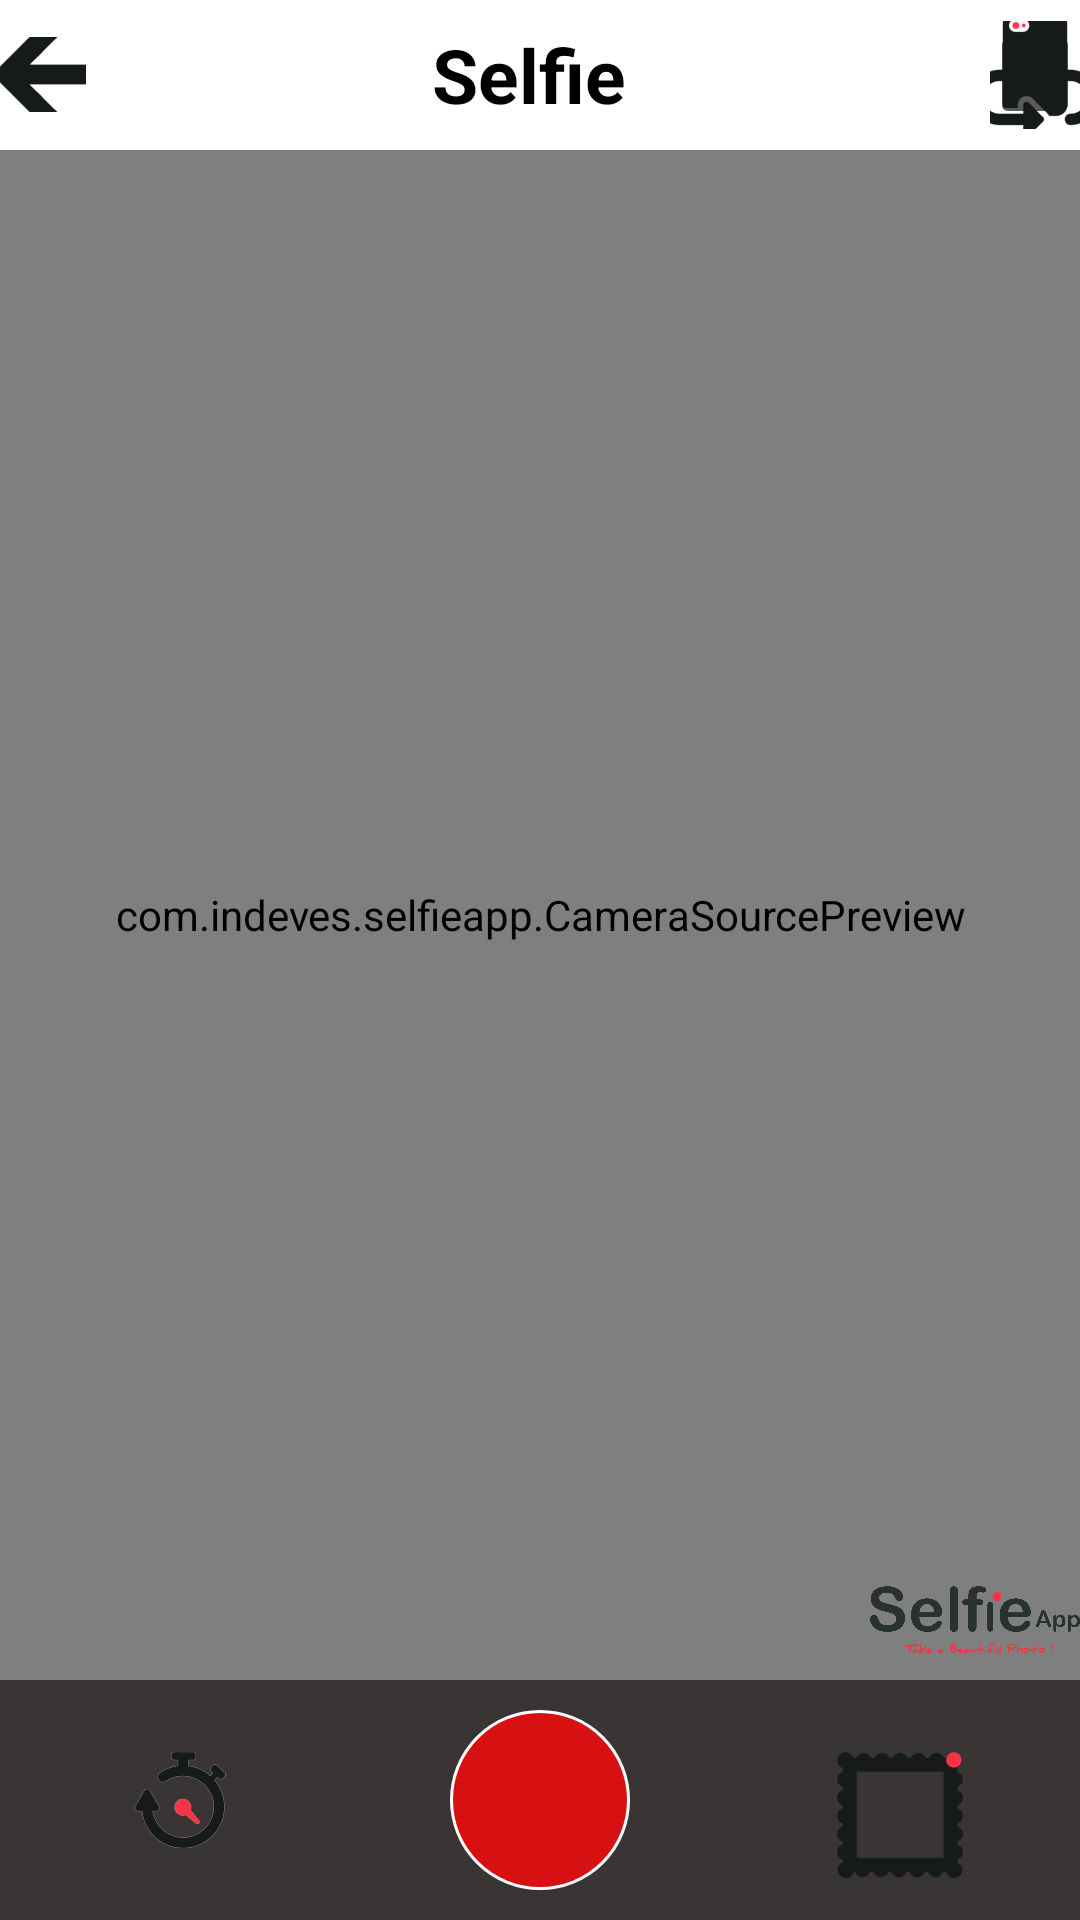

Where icons sit on this 1080x1920 app screen, as (x1, y1, x2, y2):
add timer: (134, 1752, 226, 1848)
